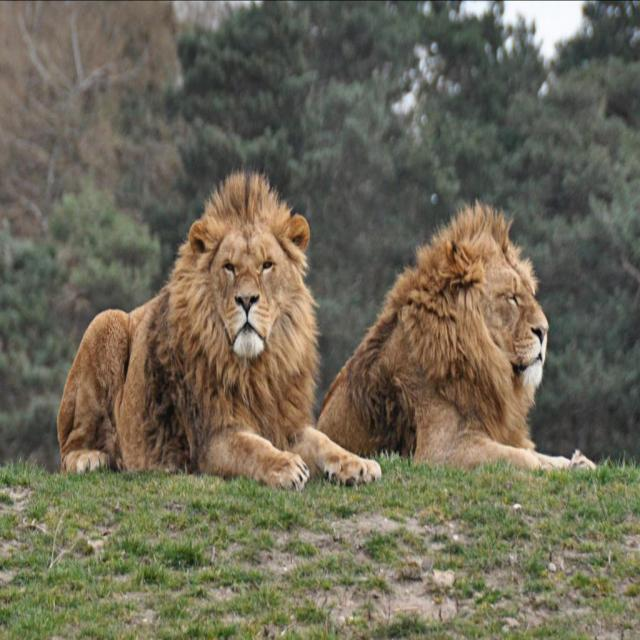Lion: (57, 156, 381, 491), (317, 198, 596, 472)
